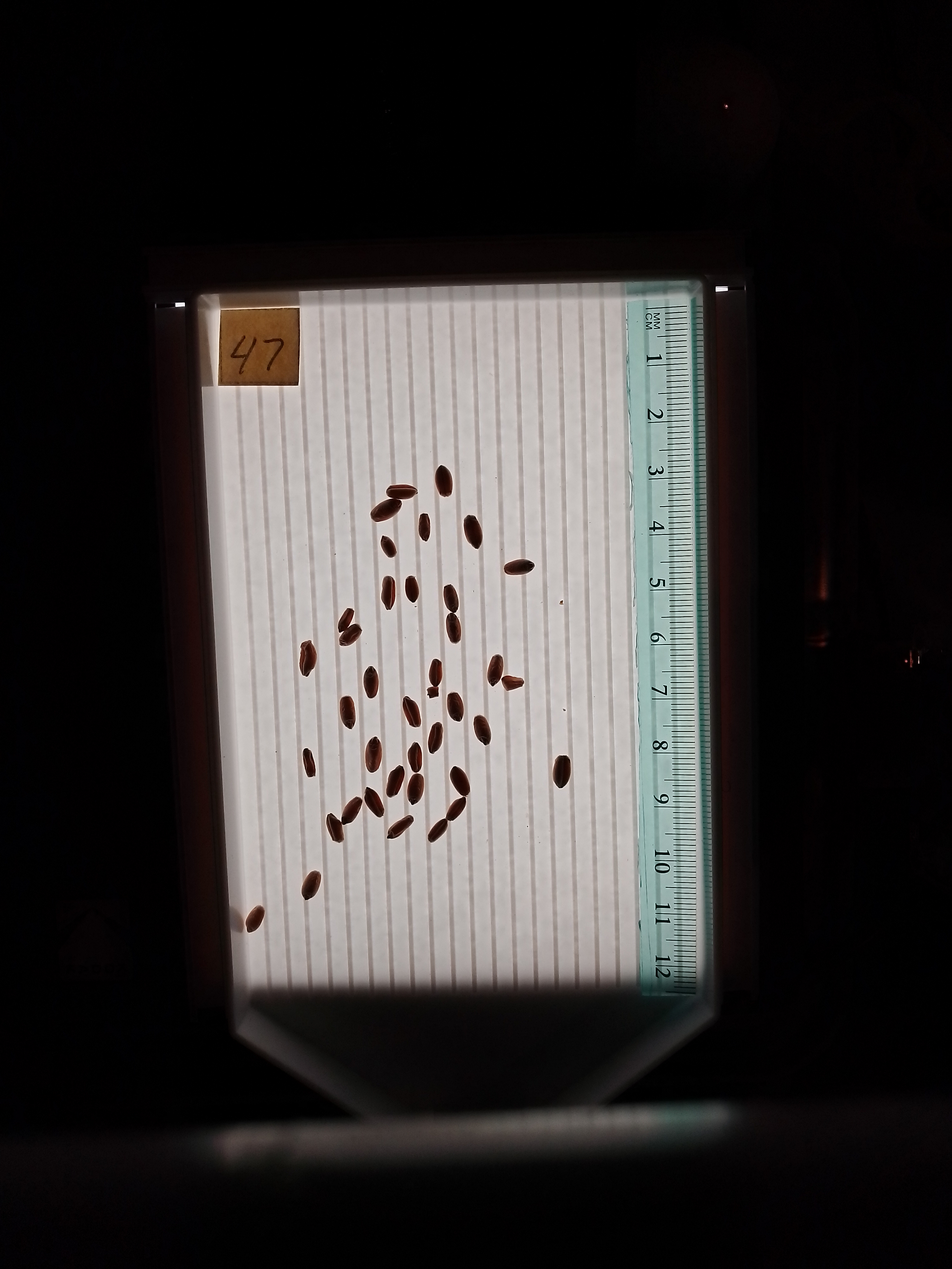seed mask: (371, 496, 401, 522), (552, 755, 572, 788), (450, 766, 470, 797), (464, 516, 483, 548), (365, 738, 382, 772), (299, 641, 316, 675), (342, 797, 362, 825), (365, 788, 384, 817), (387, 483, 416, 502), (388, 816, 413, 838), (435, 466, 453, 496), (403, 697, 421, 727), (473, 715, 491, 745), (302, 872, 321, 900), (387, 766, 404, 797), (340, 696, 356, 728), (407, 774, 424, 804), (487, 655, 504, 685), (504, 558, 534, 575), (363, 667, 379, 698), (246, 906, 265, 932), (381, 577, 396, 609), (447, 693, 464, 721), (340, 624, 361, 646), (428, 723, 443, 753), (327, 814, 343, 842), (429, 819, 448, 842), (447, 798, 465, 822), (408, 744, 423, 772), (446, 615, 461, 643), (444, 585, 459, 612), (429, 659, 443, 687), (302, 749, 316, 777), (405, 576, 419, 603), (338, 609, 354, 632), (380, 536, 396, 558), (418, 515, 430, 541), (503, 676, 523, 691), (428, 687, 439, 698)
